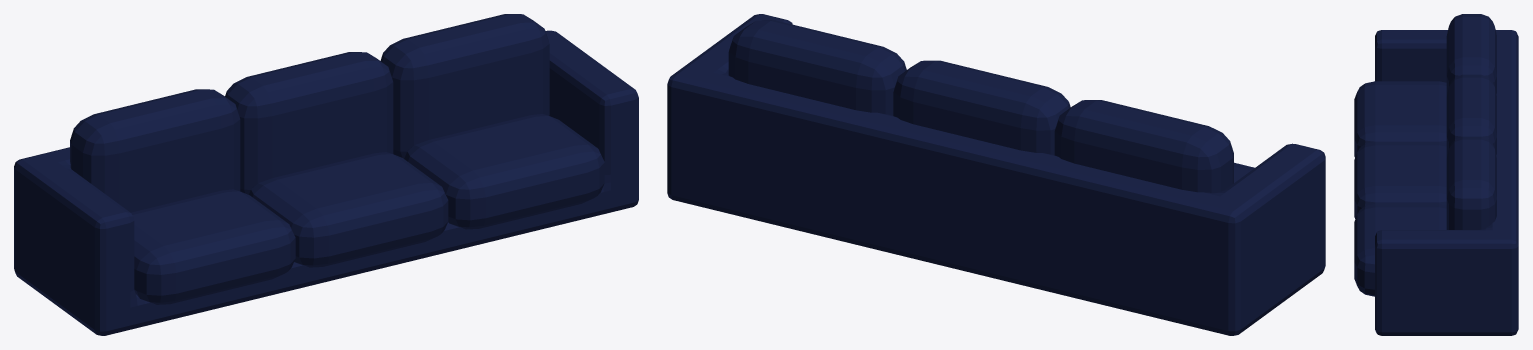
File: hh_corner_sofa.glb
3 renders of one model, left to right at view 1: azimuth 30°, elevation 25°; view 2: azimuth 150°, elevation 25°; view 3: azimuth 270°, elevation 25°, orthographic. The views are drawn at different scales.
Visible parts, largest first — view 1: Sofa_D; view 2: Sofa_D; view 3: Sofa_D.
Boxes of the visible parts, x1=… form: Sofa_D: x1=14, y1=14, x2=638, y2=335; Sofa_D: x1=667, y1=14, x2=1325, y2=335; Sofa_D: x1=1354, y1=14, x2=1518, y2=335.
Bounding box in the file's own units: 2.57 × 0.7345 × 0.8271.
